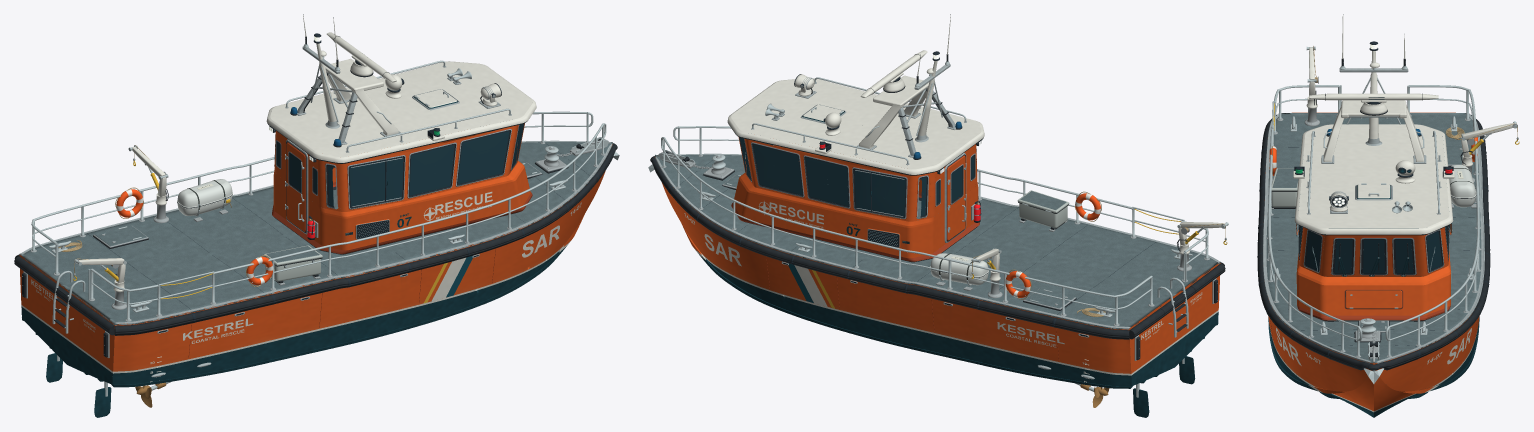
Rendered from rescue-vessel.glb.
3 views of the same model, side by side, from view 1: azimuth 30°, elevation 25°; view 2: azimuth 150°, elevation 25°; view 3: azimuth 270°, elevation 25° (orthographic). The views are drawn at different scales.
Visible parts, largest first — view 1: Cambered nonskid main deck, Flared Topsides plating | starboard, Cambered wheelhouse crown, welded aluminium, Hull | engineered fender belts.001, Laminated pilothouse lights, Raked transom closure, Hull | chines, deck margins and plating seams.001, Bulwarks / starboard welded safety railing 2, cambered roof, fabricated radar arch, Bulwarks / port welded safety railing 1 (+21 smaller); view 2: Cambered nonskid main deck, Flared Topsides plating | port, Cambered wheelhouse crown, welded aluminium, Hull | engineered fender belts.001, Laminated pilothouse lights, Raked transom closure, Hull | chines, deck margins and plating seams.001, Bulwarks / port welded safety railing 1, cambered roof, fabricated radar arch, Formed window apertures (+18 smaller); view 3: Cambered nonskid main deck, Cambered wheelhouse crown, welded aluminium, Hull | engineered fender belts.001, Hull | chines, deck margins and plating seams.001, Flared Topsides plating | starboard, Flared Topsides plating | port, Laminated pilothouse lights, cambered roof, Bulwarks / port welded safety railing 1, fabricated radar arch, Bulwarks / starboard welded safety railing 2 (+24 smaller).
Boxes of the visible parts, left/top/right/bottom form: Cambered nonskid main deck: left=19, top=142, right=612, bottom=325; Flared Topsides plating | starboard: left=112, top=144, right=612, bottom=384; Cambered wheelhouse crown: left=270, top=62, right=532, bottom=157; welded aluminium: left=272, top=133, right=532, bottom=254; Hull | engineered fender belts.001: left=14, top=143, right=617, bottom=335; Laminated pilothouse lights: left=328, top=123, right=523, bottom=206; Raked transom closure: left=19, top=255, right=114, bottom=384; Hull | chines, deck margins and plating seams.001: left=20, top=140, right=612, bottom=387; Bulwarks / starboard welded safety railing 2: left=210, top=123, right=606, bottom=304; cambered roof: left=266, top=60, right=536, bottom=163; fabricated radar arch: left=297, top=58, right=400, bottom=144; Bulwarks / port welded safety railing 1: left=30, top=111, right=593, bottom=275; Cambered nonskid main deck: left=654, top=154, right=1220, bottom=329; Flared Topsides plating | port: left=655, top=157, right=1131, bottom=386; Cambered wheelhouse crown: left=731, top=78, right=981, bottom=169; welded aluminium: left=731, top=147, right=979, bottom=262; Hull | engineered fender belts.001: left=650, top=156, right=1225, bottom=339; Laminated pilothouse lights: left=740, top=137, right=926, bottom=216; Raked transom closure: left=1129, top=263, right=1220, bottom=385; Hull | chines, deck margins and plating seams.001: left=655, top=153, right=1220, bottom=388; Bulwarks / port welded safety railing 1: left=661, top=137, right=1154, bottom=326; cambered roof: left=727, top=77, right=984, bottom=175; fabricated radar arch: left=857, top=75, right=955, bottom=157; Formed window apertures: left=738, top=137, right=976, bottom=221; Cambered nonskid main deck: left=1263, top=113, right=1484, bottom=363; Cambered wheelhouse crown: left=1298, top=124, right=1449, bottom=228; welded aluminium: left=1296, top=235, right=1450, bottom=321; Hull | engineered fender belts.001: left=1257, top=114, right=1490, bottom=370; Hull | chines, deck margins and plating seams.001: left=1263, top=113, right=1484, bottom=398; Flared Topsides plating | starboard: left=1264, top=172, right=1372, bottom=391; Flared Topsides plating | port: left=1375, top=314, right=1479, bottom=391; Laminated pilothouse lights: left=1299, top=226, right=1448, bottom=273; cambered roof: left=1294, top=124, right=1453, bottom=235; Bulwarks / port welded safety railing 1: left=1385, top=85, right=1481, bottom=357; fabricated radar arch: left=1321, top=100, right=1426, bottom=163; Bulwarks / starboard welded safety railing 2: left=1266, top=128, right=1362, bottom=357.
Bounding box in the file's own units: 17.77 × 9.9 × 7.09.
Materials: 32 (12 with a texture image).
